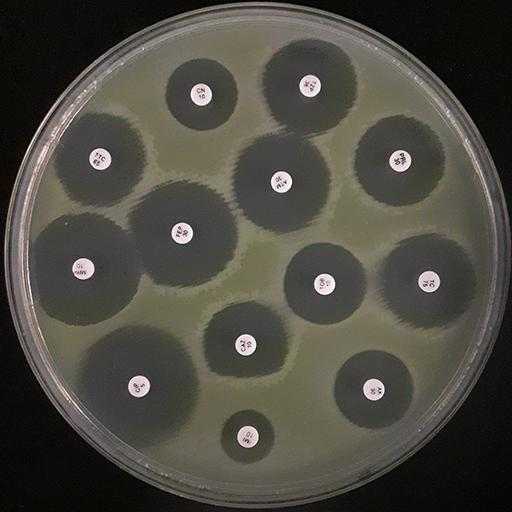disc: (298, 74, 322, 98), (190, 83, 213, 106), (389, 149, 412, 172), (170, 222, 194, 244), (89, 148, 112, 170), (72, 258, 95, 280), (418, 271, 441, 293), (234, 333, 257, 355), (362, 378, 385, 400), (128, 375, 151, 397), (271, 171, 293, 193), (314, 273, 336, 295), (237, 425, 259, 447)
